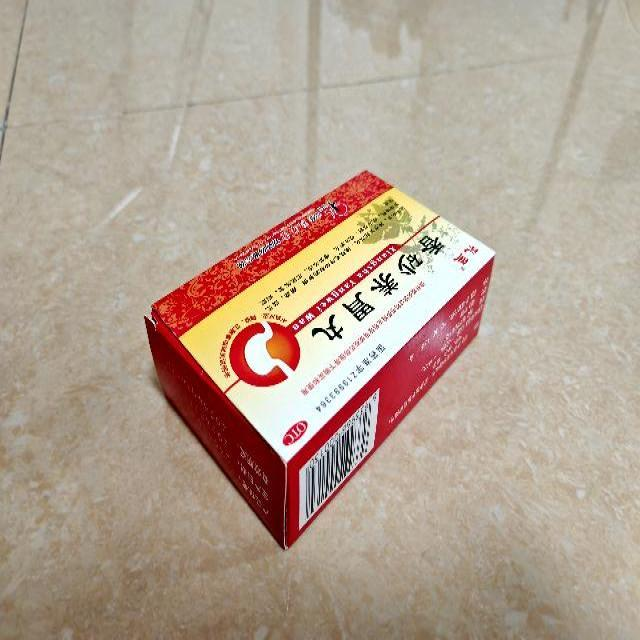box: (145, 170, 495, 550)
